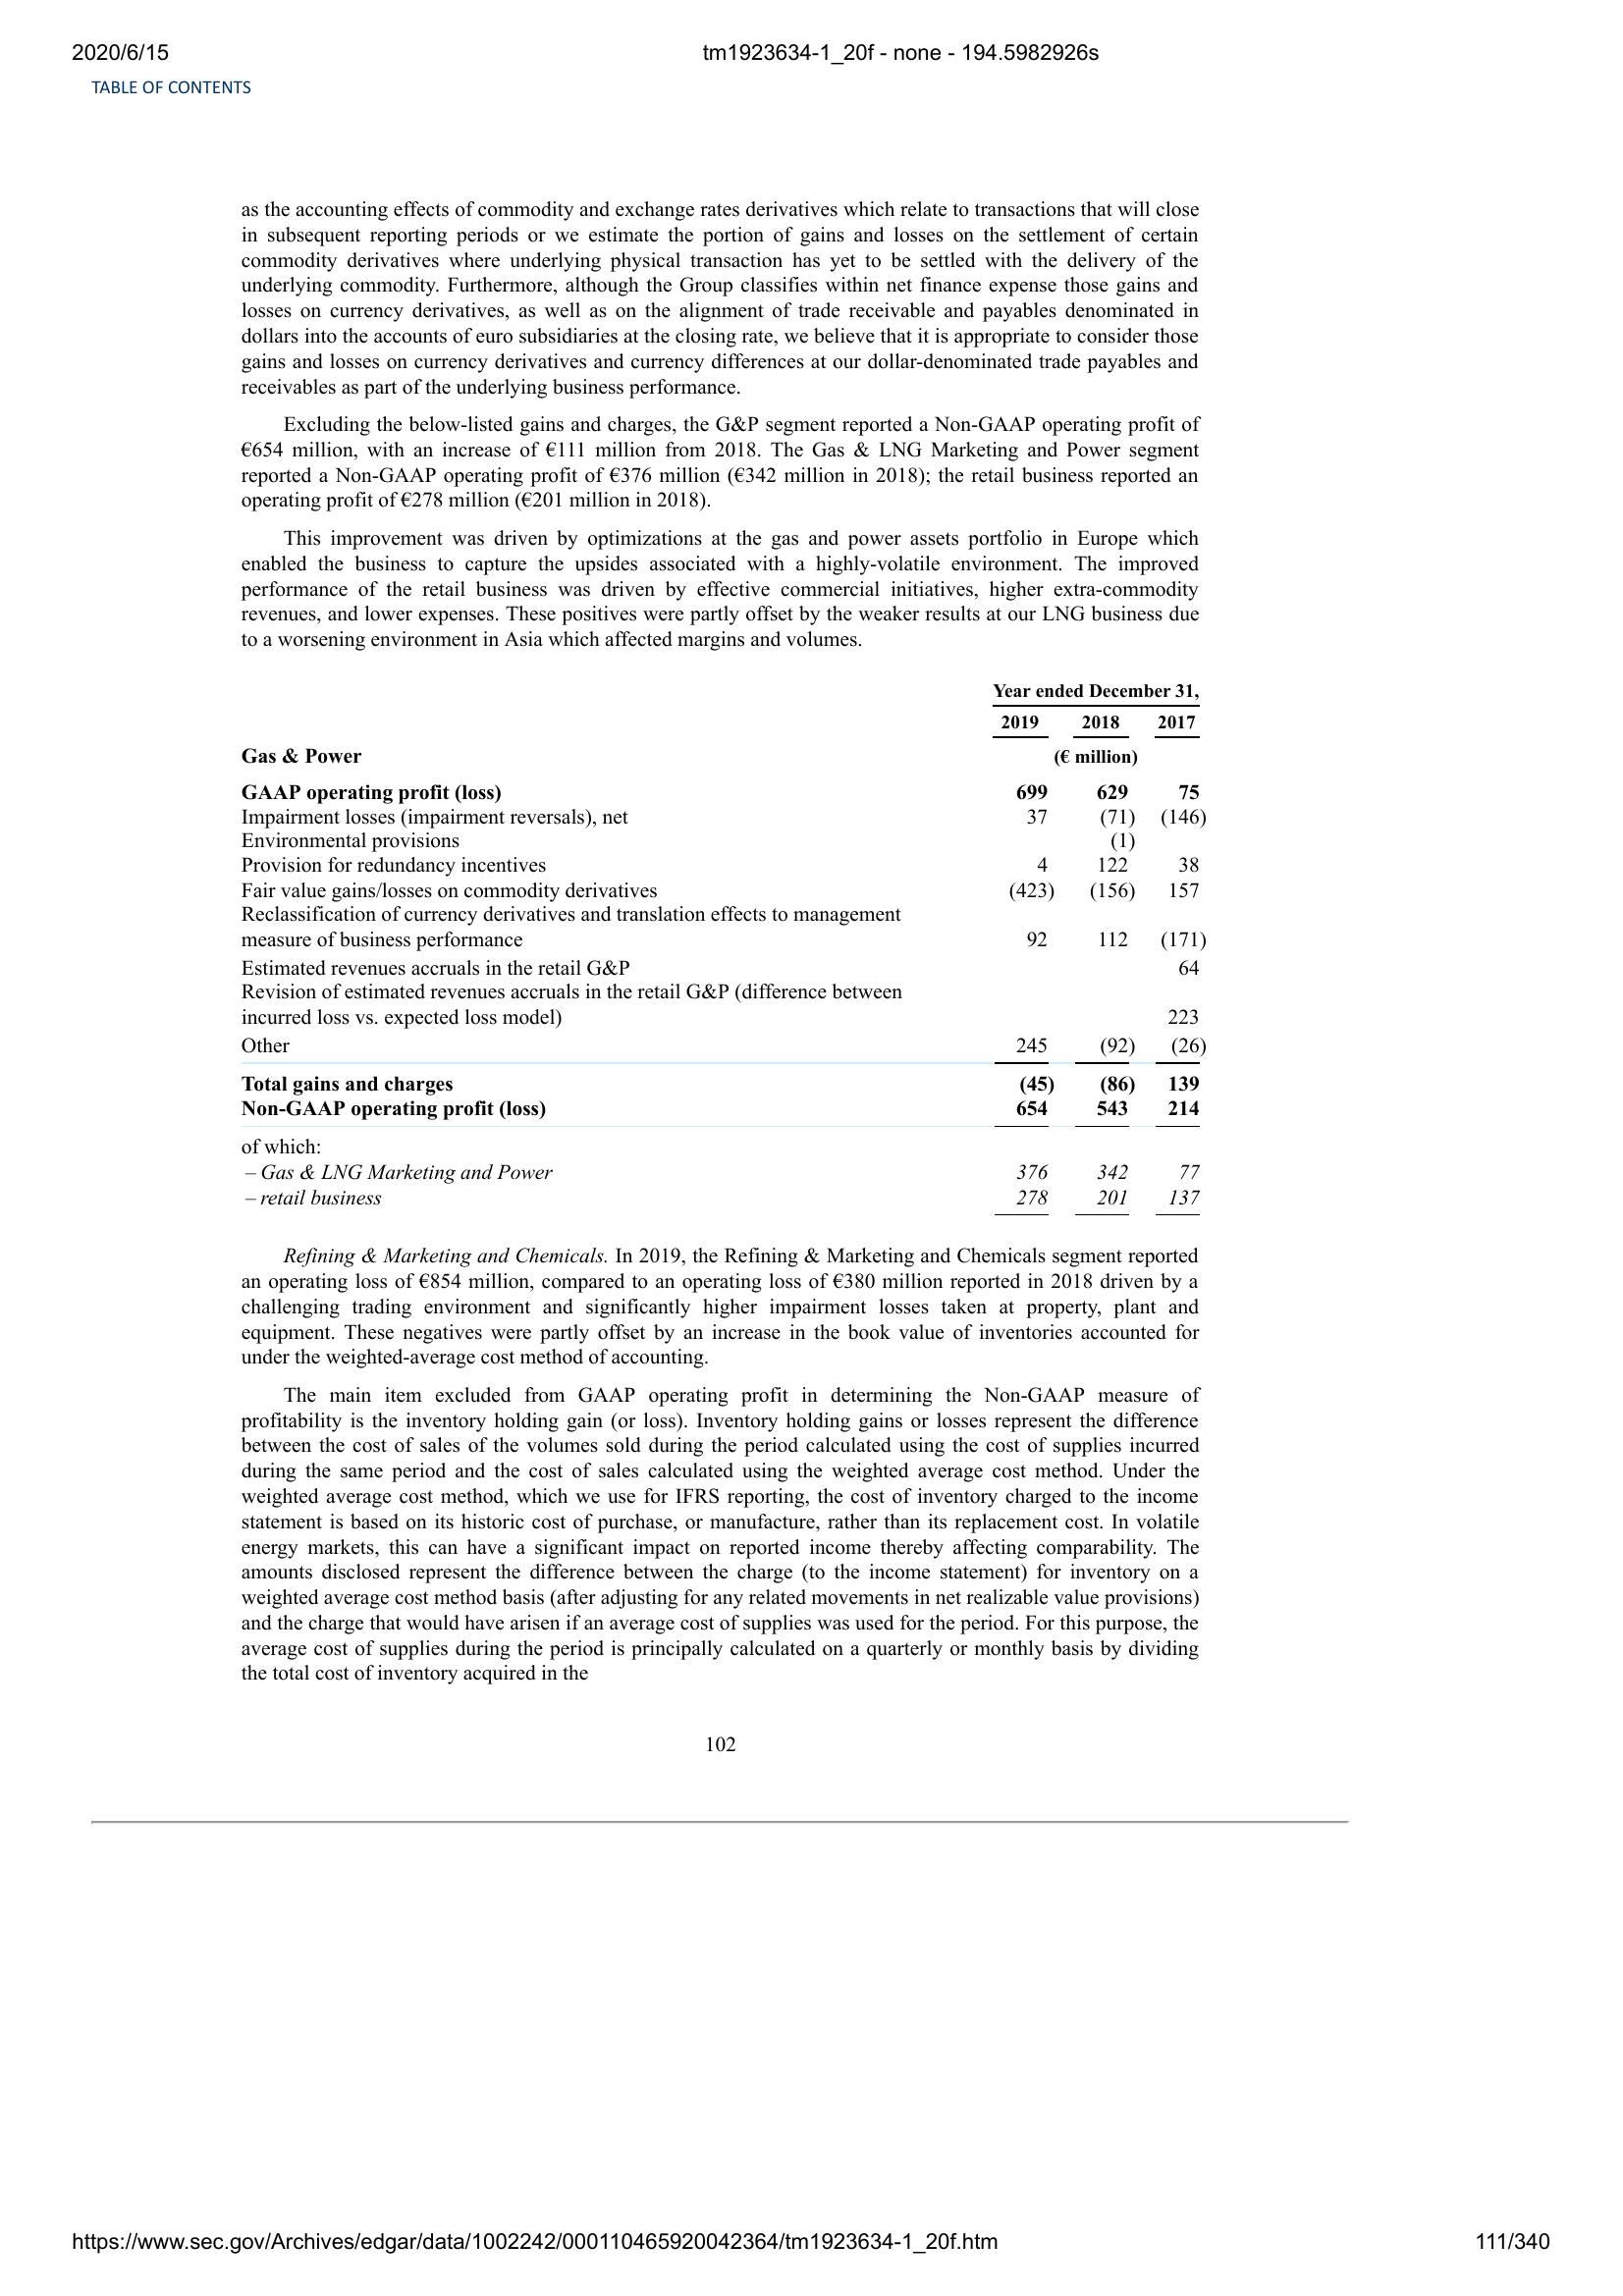table: (235, 679, 1210, 1222)
